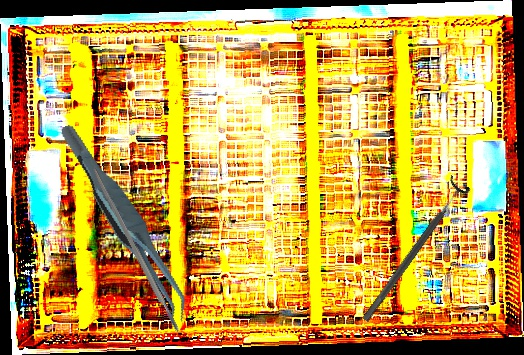Fixation Ring: (354, 174, 472, 328)
Scalpel Handle: (90, 166, 182, 336)
Tissue Forceps: (58, 107, 193, 340)
